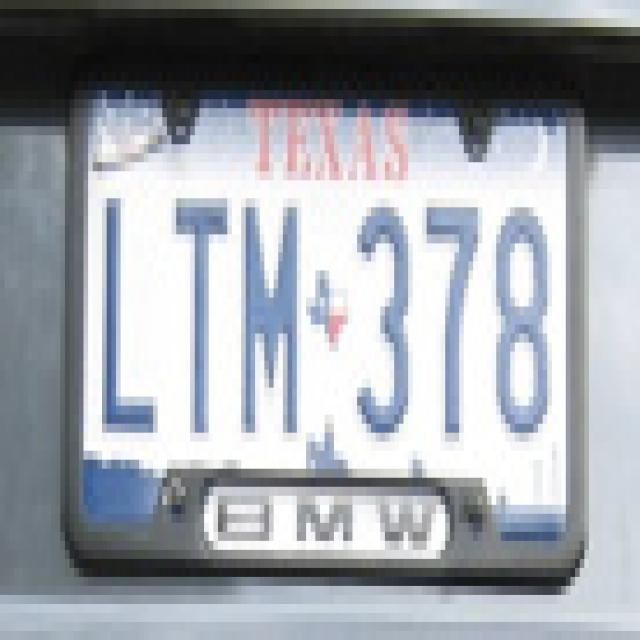3: (351, 183, 417, 452)
7: (421, 179, 489, 452)
8: (486, 179, 557, 449)
L: (96, 168, 166, 451)
M: (236, 175, 310, 454)
T: (172, 175, 234, 451)
